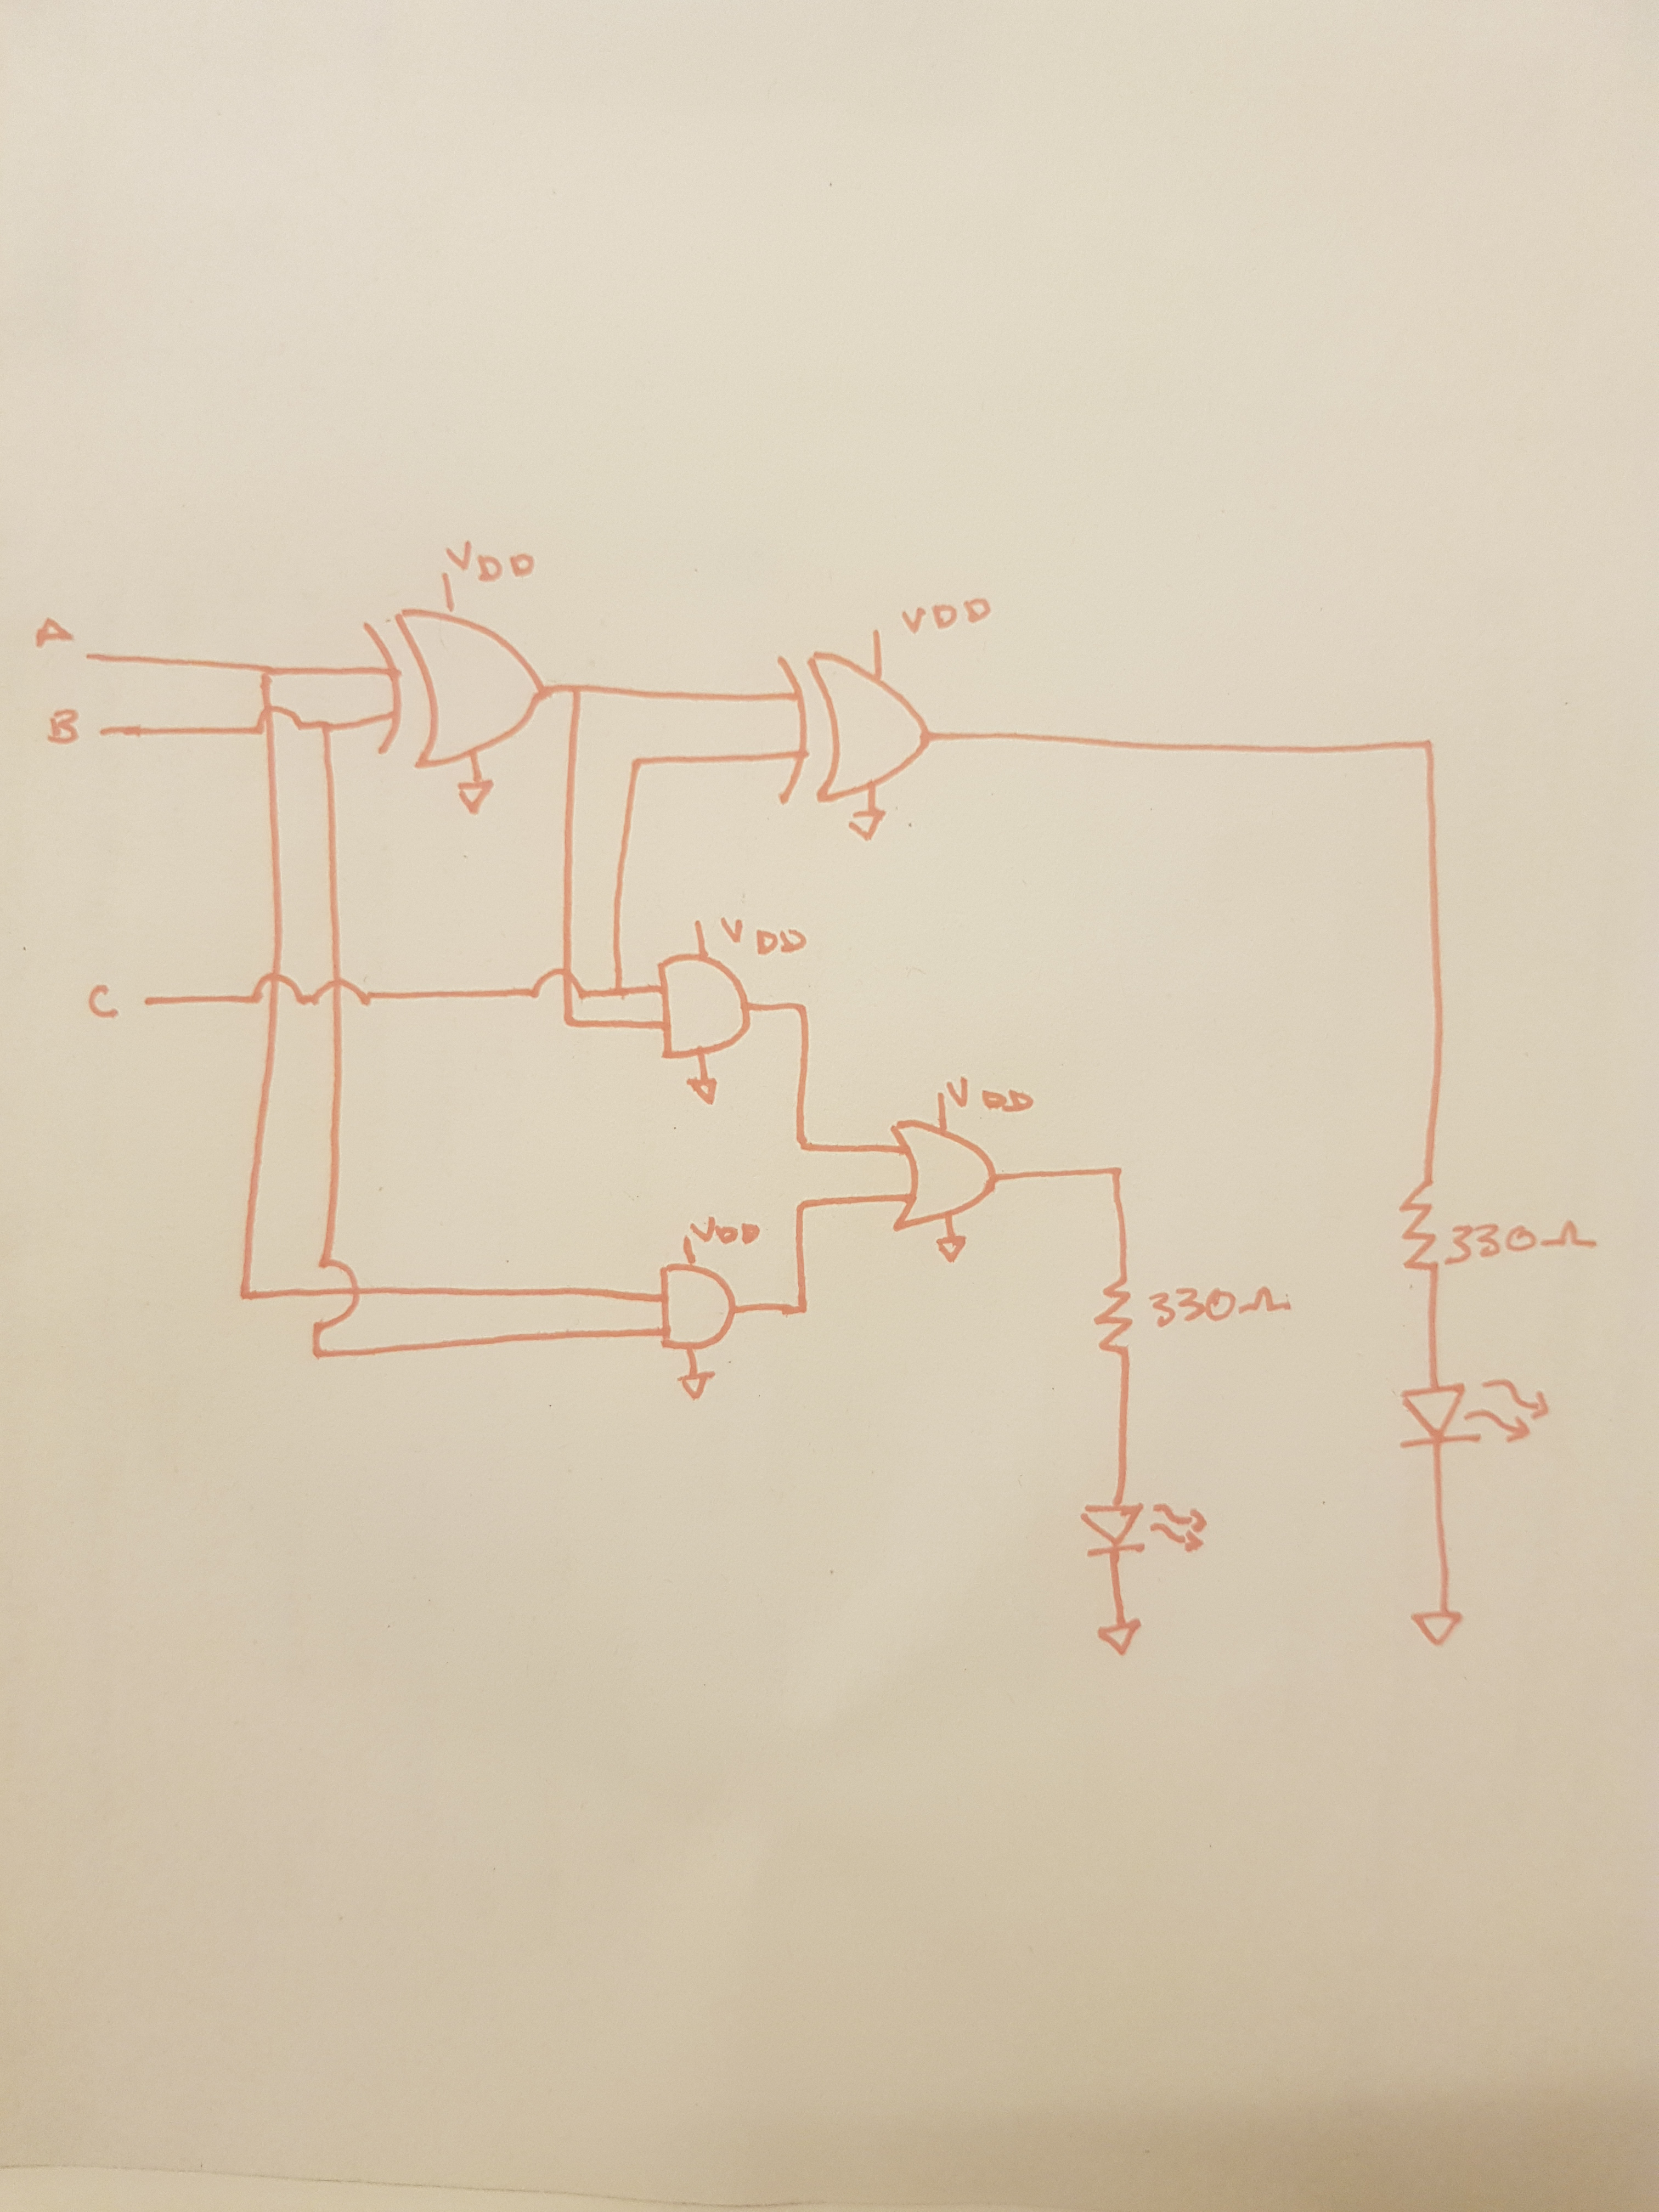and: (648, 948, 756, 1068), (650, 1244, 749, 1360)
crossover: (308, 1256, 362, 1332), (528, 967, 591, 1007), (310, 974, 369, 1012), (249, 970, 303, 1008), (251, 704, 305, 737)
diode.light_emitting: (1389, 1372, 1554, 1453), (1075, 1496, 1213, 1564)
gnd: (1403, 1606, 1471, 1655), (1093, 1615, 1147, 1660), (681, 1071, 728, 1111), (671, 1367, 718, 1407), (925, 1230, 972, 1270), (451, 779, 498, 817), (843, 805, 890, 843)
junction: (556, 1005, 587, 1036), (256, 662, 277, 685), (610, 982, 629, 1001), (237, 1284, 254, 1305), (1420, 735, 1438, 756), (791, 1301, 810, 1318), (308, 1346, 326, 1366), (795, 1000, 810, 1017), (793, 1136, 809, 1153), (793, 1198, 809, 1216), (629, 754, 643, 773), (321, 721, 336, 737), (570, 683, 586, 698), (1108, 1163, 1124, 1179)
or: (885, 1113, 1011, 1238)
resistor: (1394, 1170, 1446, 1282), (1089, 1264, 1141, 1367)
terminal: (129, 984, 166, 1019), (87, 714, 122, 749), (75, 641, 105, 671)
text: (1445, 1217, 1601, 1264), (1143, 1284, 1295, 1327), (443, 536, 540, 583), (896, 594, 995, 637), (943, 1075, 1039, 1115), (718, 914, 809, 954), (688, 1214, 763, 1245), (31, 611, 78, 650), (44, 705, 80, 747), (85, 981, 120, 1019)
xor: (356, 592, 556, 775), (765, 636, 936, 812)
